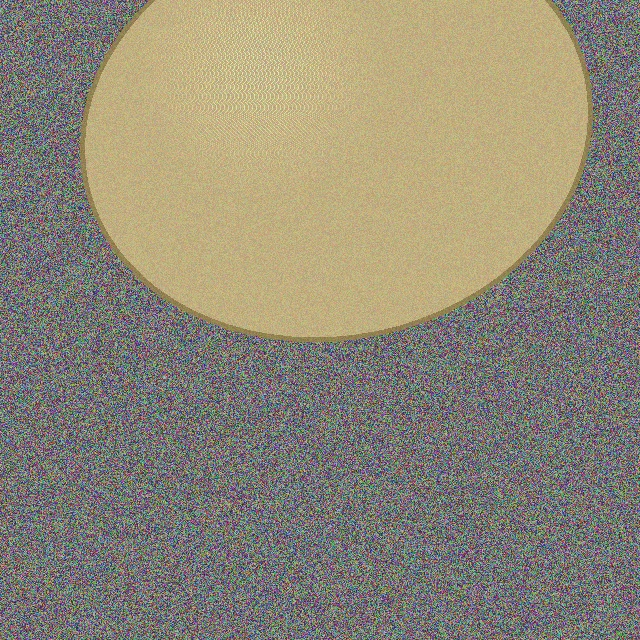lens: (83, 0, 589, 339)
